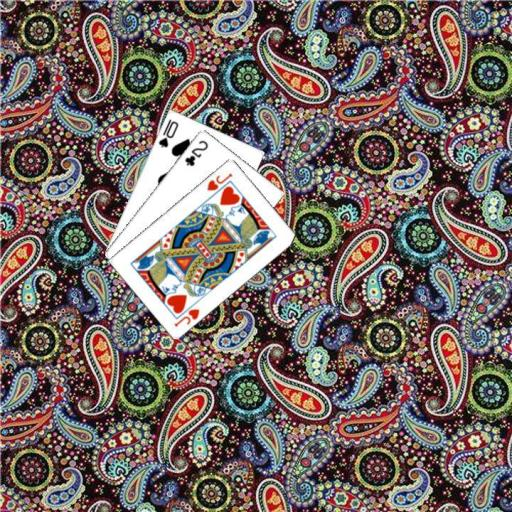10S: (155, 115, 180, 149)
2C: (181, 136, 210, 168)
JH: (204, 169, 234, 192), (171, 305, 201, 328)
